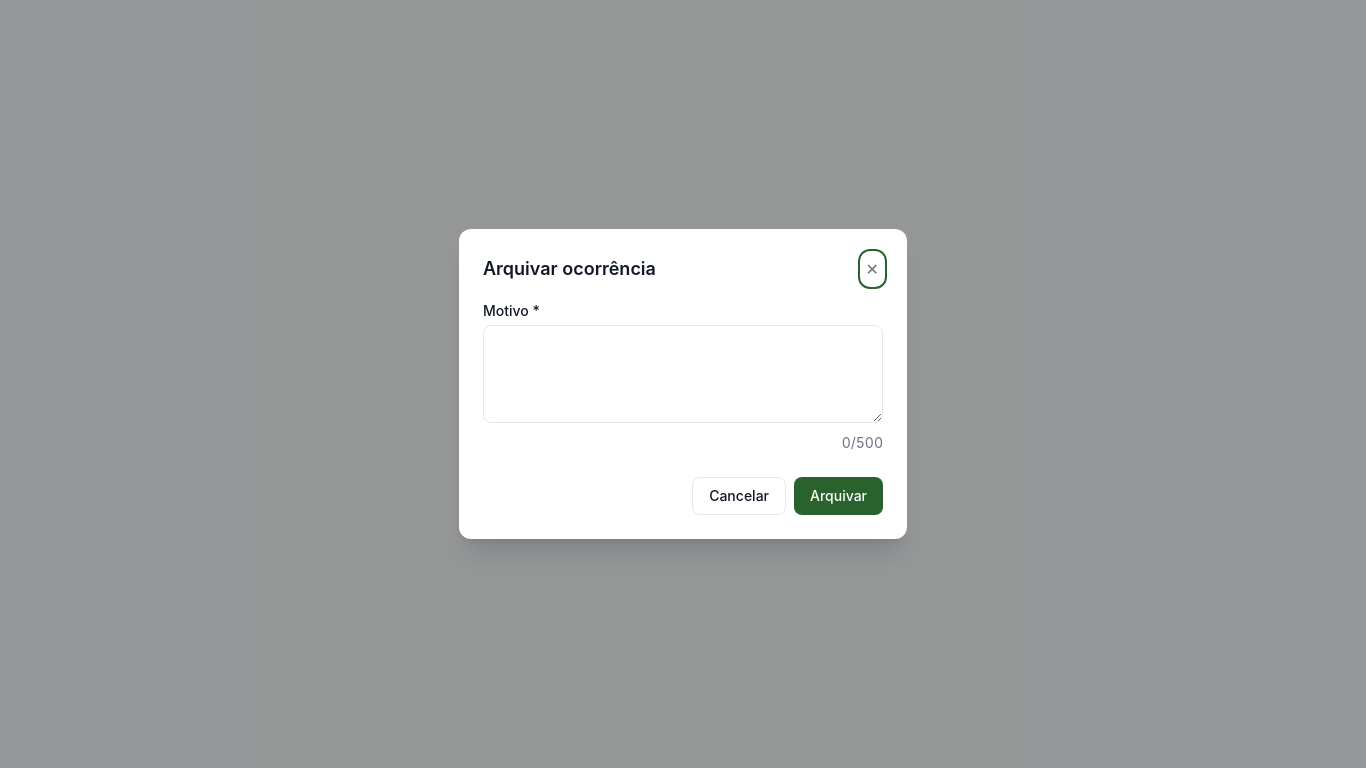
Test: ArquivarOcorrenciaDialog › bloqueia o arquivamento sem motivo
This screenshot has width=1366, height=768.
Click the button "Arquivar" at (838, 496), box [794,477,883,515]
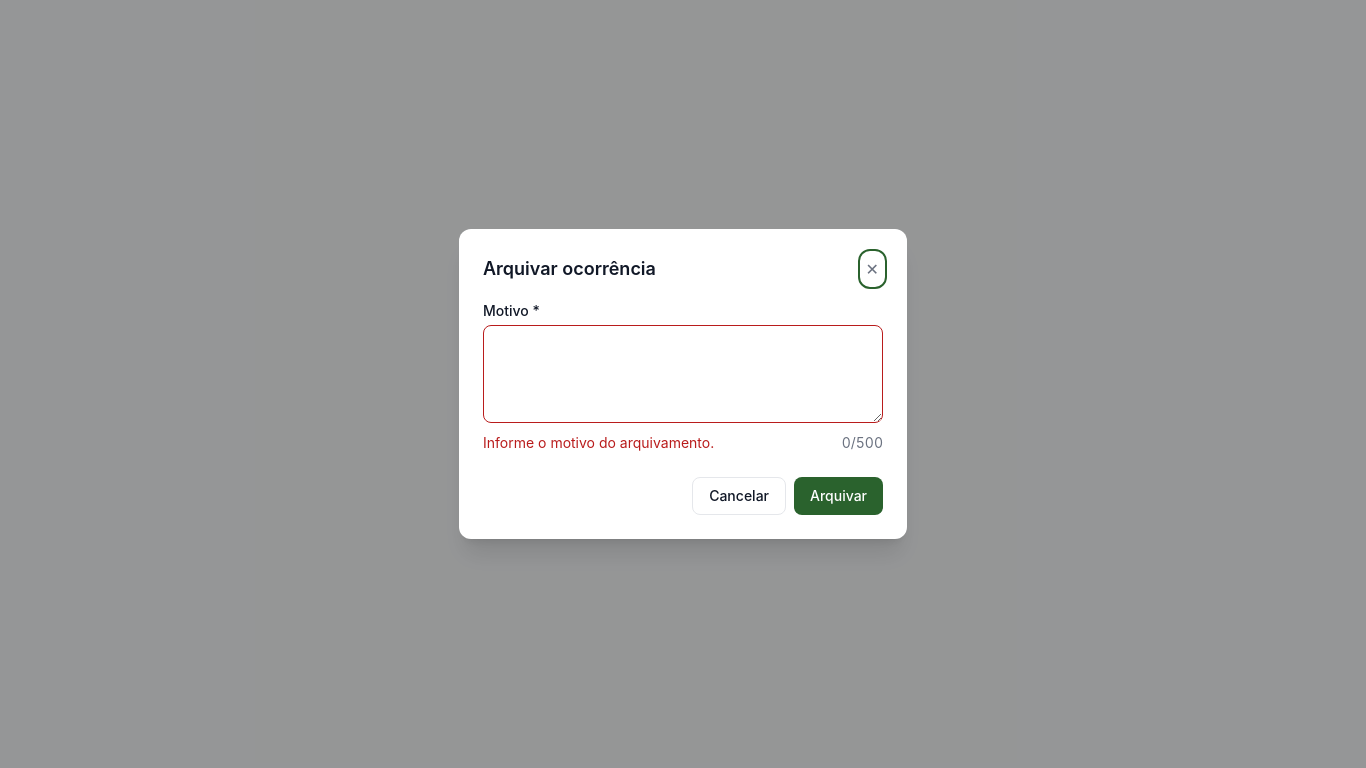
Now the text "Informe o motivo do arquivamento." is shown, box [483,433,714,453]
